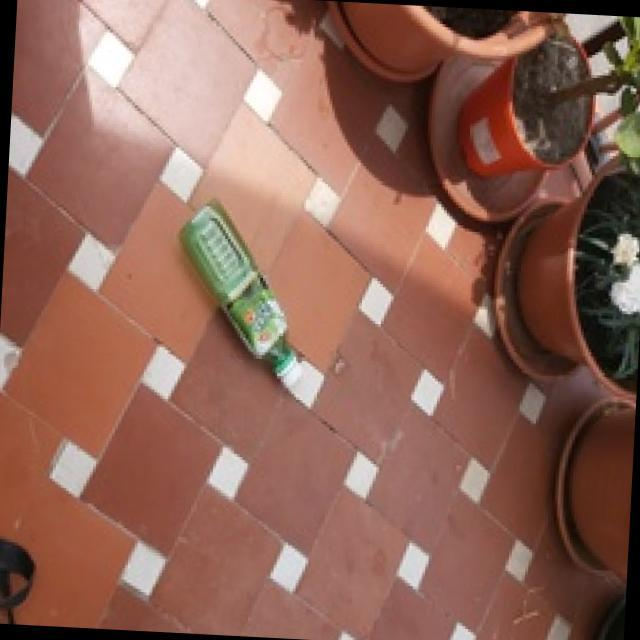good: (161, 198, 338, 418)
